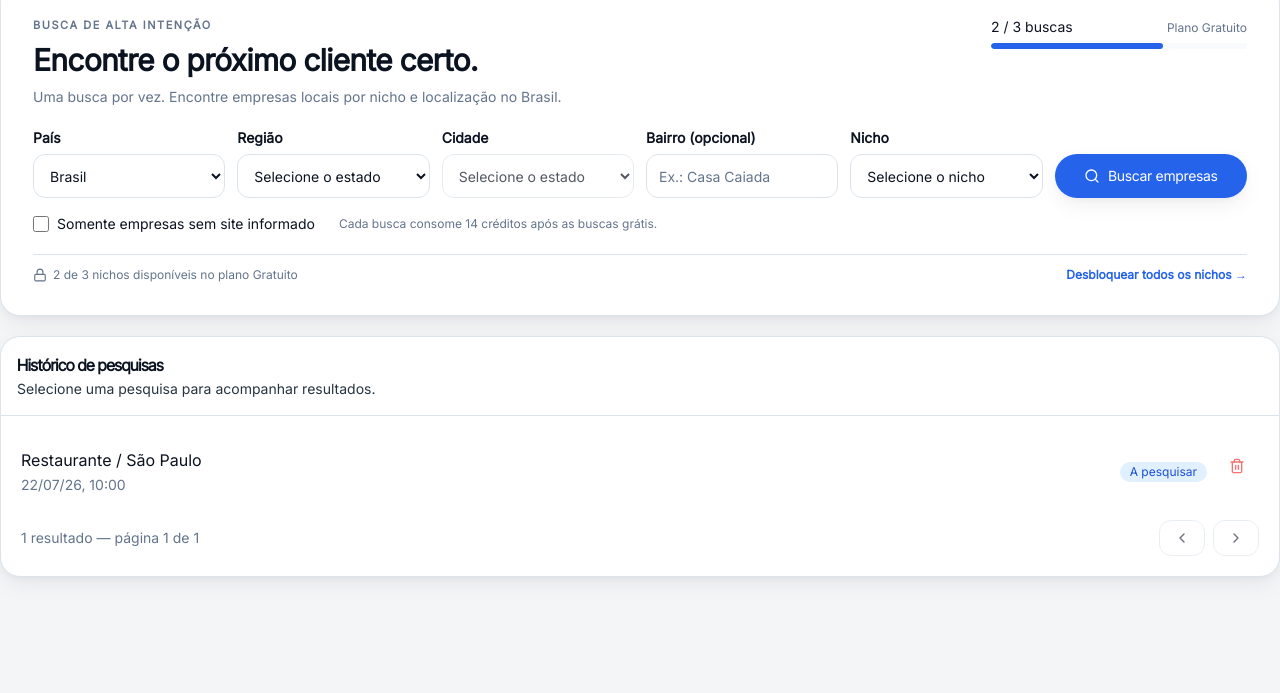
SearchPage › shows OpenStreetMap attribution and blocks CRM sending until processing completes
Click the button "Restaurante / São Paulo 22/07/26, 10:00 A pesquisar" at (111,460), box [21,448,1207,496]
(page scrolled)
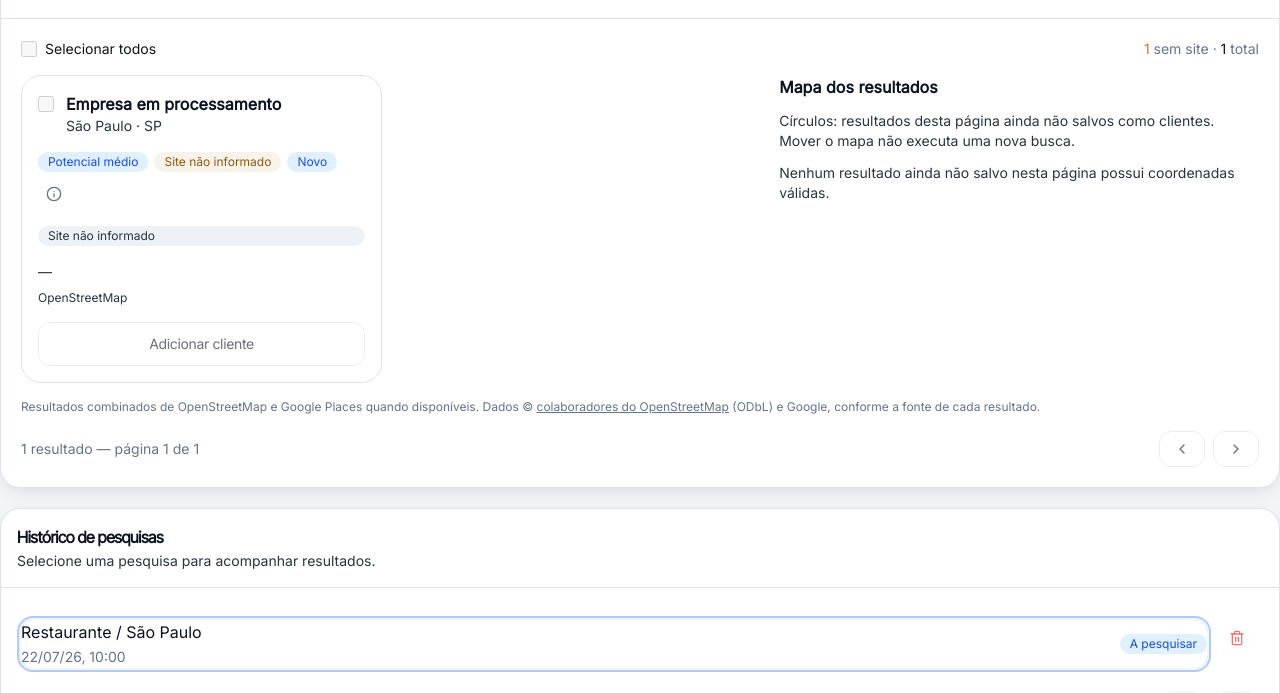
Expected: the checkbox named "Selecionar Empresa em processamento" is disabled, [38,96,54,112]
Expected: the button "Adicionar cliente" is disabled, [38,322,365,366]
